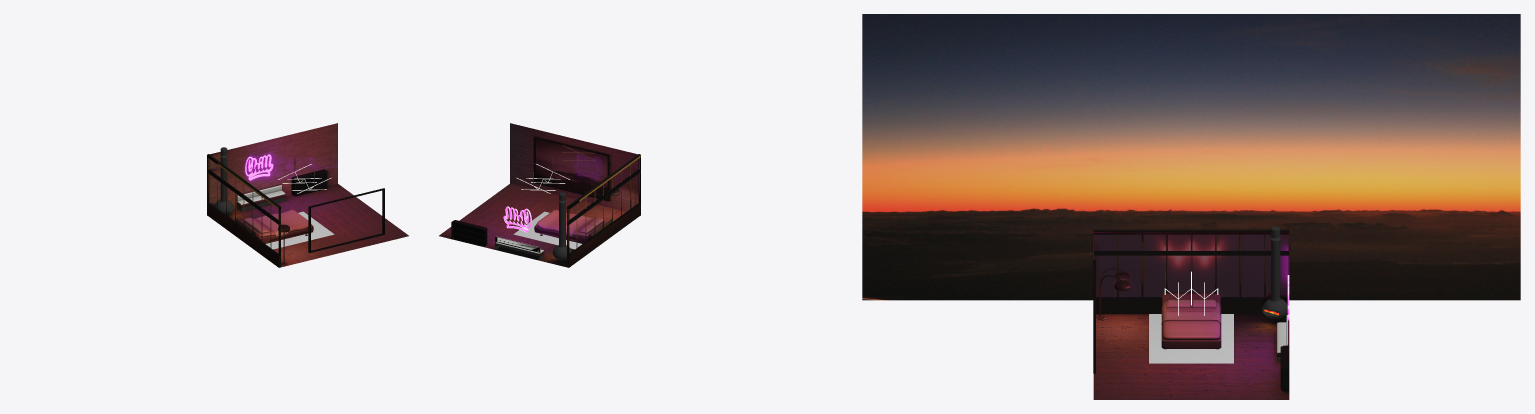
The model's file is ModernBedroom-scene.gltf.
3 renders of one model, left to right at view 1: azimuth 30°, elevation 25°; view 2: azimuth 150°, elevation 25°; view 3: azimuth 270°, elevation 25°, orthographic. The views are drawn at different scales.
Visible parts, largest first — view 1: Modern Bedroom; view 2: Modern Bedroom; view 3: Backdrop, Modern Bedroom.
Boxes of the visible parts, x1,y1,x2,y2 form: Modern Bedroom: (207,123,408,267); Modern Bedroom: (439,123,640,267); Backdrop: (862,14,1520,300); Modern Bedroom: (1092,226,1290,399).
Bounding box in the file's own units: 13.41 × 11.24 × 23.43.
